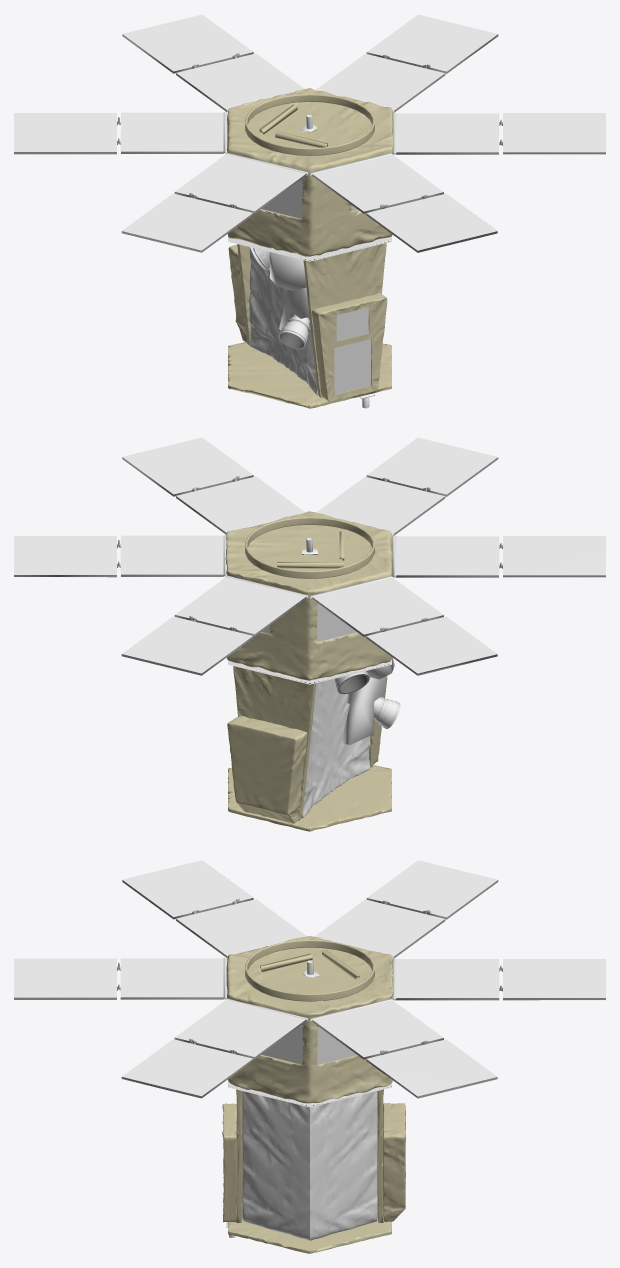
The model's file is sorce.glb.
The picture shows the model from 3 angles, top to bottom: view 1: azimuth 30°, elevation 25°; view 2: azimuth 150°, elevation 25°; view 3: azimuth 270°, elevation 25°; orthographic projection.
Parts seen in each view (by area): view 1: SORCE_vFINAL [Layer11], SORCE_vFINAL [Layer1], SORCE_vFINAL [Layer10], SORCE_vFINAL [Layer15], SORCE_vFINAL [Layer12]; view 2: SORCE_vFINAL [Layer11], SORCE_vFINAL [Layer1], SORCE_vFINAL [Layer10], SORCE_vFINAL [Layer15], SORCE_vFINAL [Layer12]; view 3: SORCE_vFINAL [Layer11], SORCE_vFINAL [Layer1], SORCE_vFINAL [Layer10], SORCE_vFINAL [Layer15], SORCE_vFINAL [Layer12].
Boxes of the visible parts, x1,y1,x2,y2 form: SORCE_vFINAL [Layer11]: (14, 14, 605, 250); SORCE_vFINAL [Layer1]: (227, 88, 393, 408); SORCE_vFINAL [Layer10]: (223, 110, 396, 408); SORCE_vFINAL [Layer15]: (14, 34, 605, 252); SORCE_vFINAL [Layer12]: (261, 180, 370, 394); SORCE_vFINAL [Layer11]: (14, 437, 605, 673); SORCE_vFINAL [Layer1]: (225, 511, 392, 831); SORCE_vFINAL [Layer10]: (223, 533, 400, 818); SORCE_vFINAL [Layer15]: (14, 457, 605, 675); SORCE_vFINAL [Layer12]: (262, 603, 356, 641); SORCE_vFINAL [Layer11]: (14, 860, 605, 1096); SORCE_vFINAL [Layer1]: (222, 936, 405, 1253); SORCE_vFINAL [Layer10]: (223, 947, 396, 1240); SORCE_vFINAL [Layer15]: (14, 880, 605, 1098); SORCE_vFINAL [Layer12]: (261, 1026, 356, 1064).
Bounding box in the file's own units: 230 × 121 × 243.
